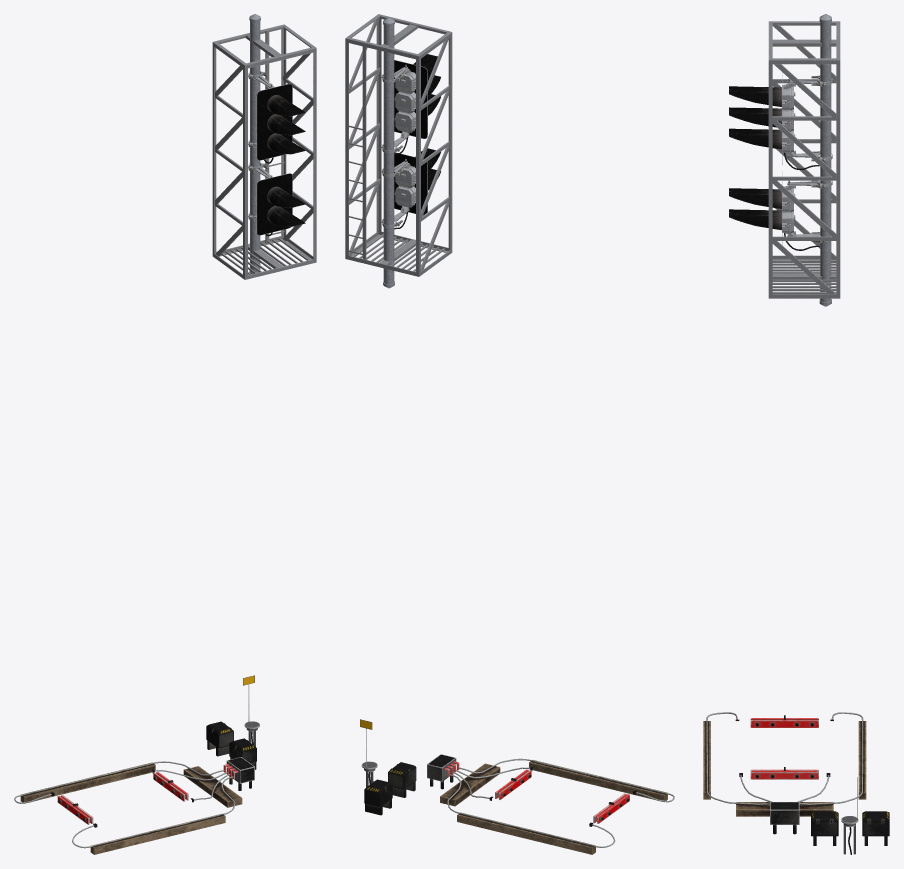
The model's file is RM_sig_P_RM1_YGR+YW_3+2_exit.gltf.
3 renders of one model, left to right at view 1: azimuth 30°, elevation 25°; view 2: azimuth 150°, elevation 25°; view 3: azimuth 270°, elevation 25°, orthographic. The views are drawn at different scales.
Visible parts, largest first — view 1: Клетка, Изостык, Светофор; view 2: Клетка, Изостык, Светофор; view 3: Клетка, Изостык, Светофор.
Part boxes in pixels (<box>): Клетка: <box>212,14,316,279</box>; Изостык: <box>14,675,259,854</box>; Светофор: <box>248,71,305,236</box>; Клетка: <box>345,14,452,288</box>; Изостык: <box>360,719,674,854</box>; Светофор: <box>381,54,441,229</box>; Клетка: <box>768,14,840,306</box>; Изостык: <box>703,712,889,854</box>; Светофор: <box>729,72,832,250</box>.
Size of the model in its own units: 4.42 by 12.01 by 2.43.
3 materials, 3 textured.
